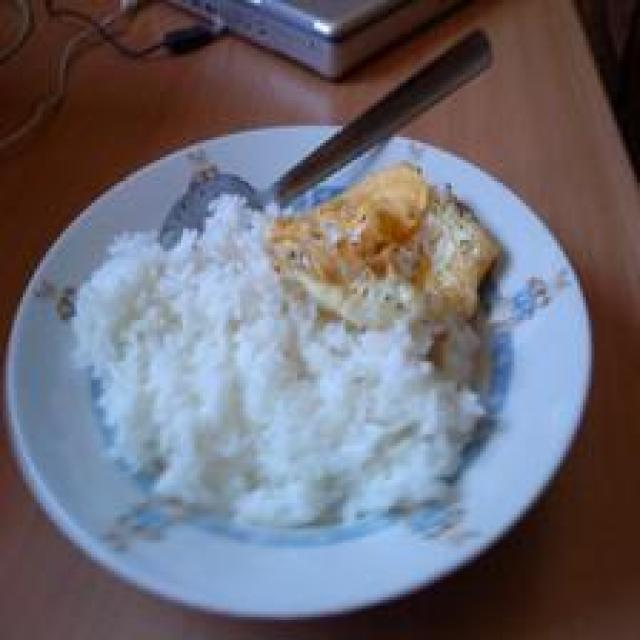Wet Waste: (85, 195, 485, 521)
